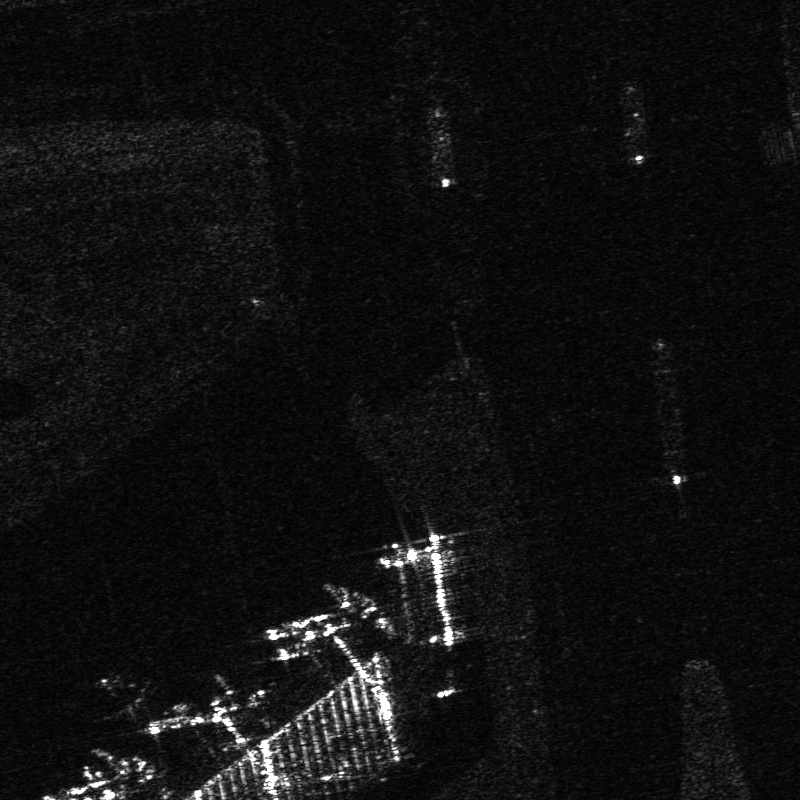Boeing787: (92, 673, 152, 724)
